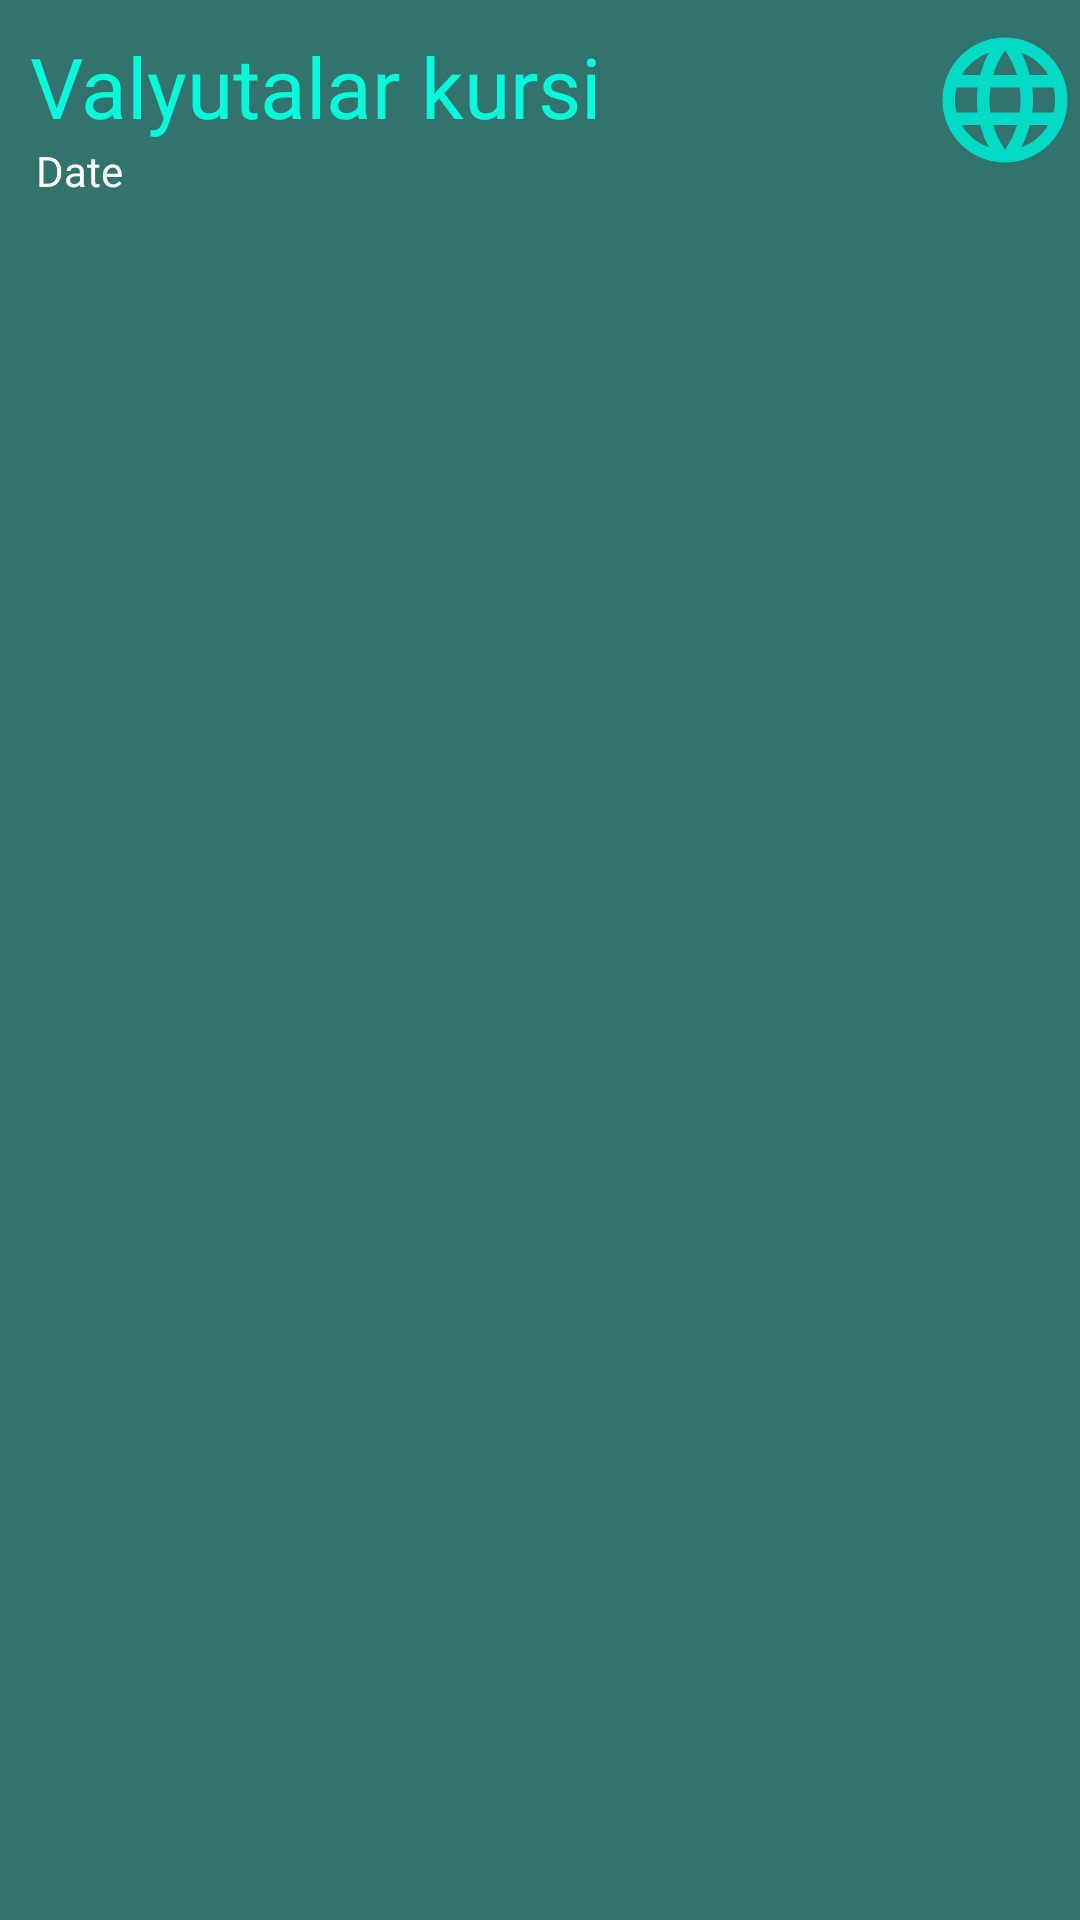

Where to tap for icons on this 1080*1920 app screen, as (x=x, y=y):
language: (x=1005, y=100)
